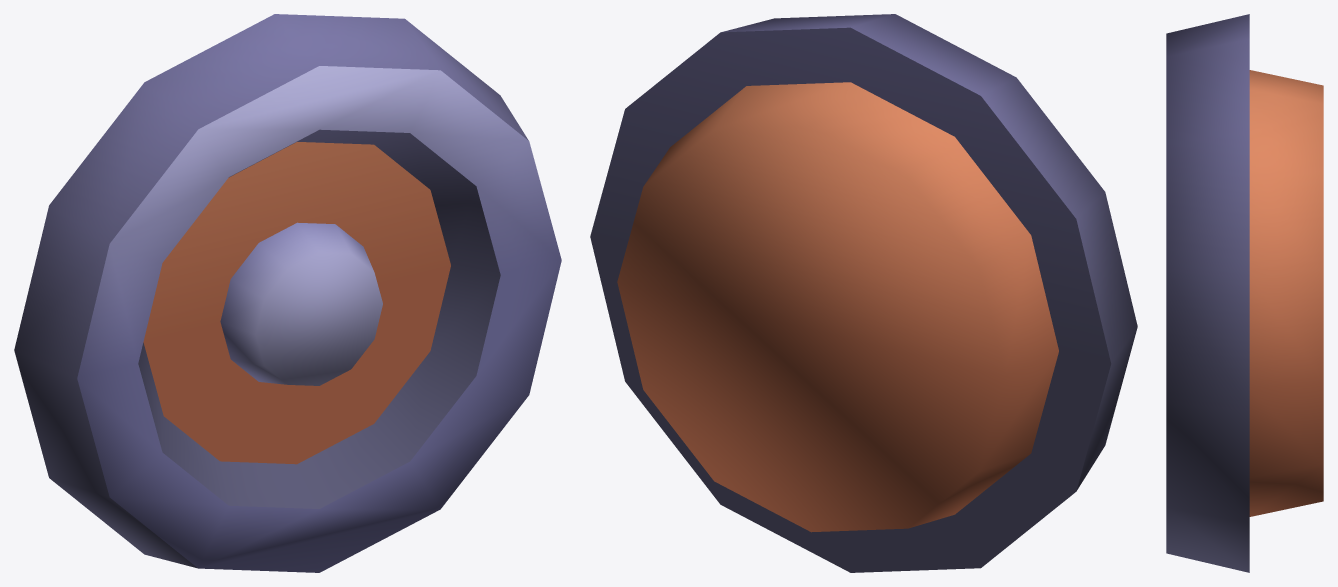
The model's file is shield-round.obj.
The picture shows the model from 3 angles, left to right: view 1: azimuth 30°, elevation 25°; view 2: azimuth 150°, elevation 25°; view 3: azimuth 270°, elevation 25°; orthographic projection. The views are drawn at different scales.
Parts seen in each view (by area): view 1: shield-round; view 2: shield-round; view 3: shield-round.
Part boxes in pixels (bbox=[...]): shield-round: bbox=[14, 14, 561, 572]; shield-round: bbox=[590, 14, 1137, 572]; shield-round: bbox=[1166, 14, 1323, 572].
Bounding box in the file's own units: 0.3797 × 0.3797 × 0.1065.
1 material, 1 textured.
